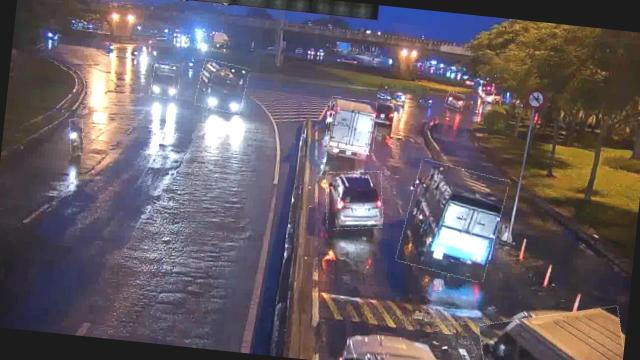Bike: (67, 118, 85, 154)
Bus: (477, 300, 627, 360)
Car: (322, 167, 386, 232), (374, 102, 396, 126), (444, 92, 466, 111)
Truck: (398, 160, 507, 282), (325, 96, 379, 154), (196, 60, 250, 114), (150, 62, 181, 100)
